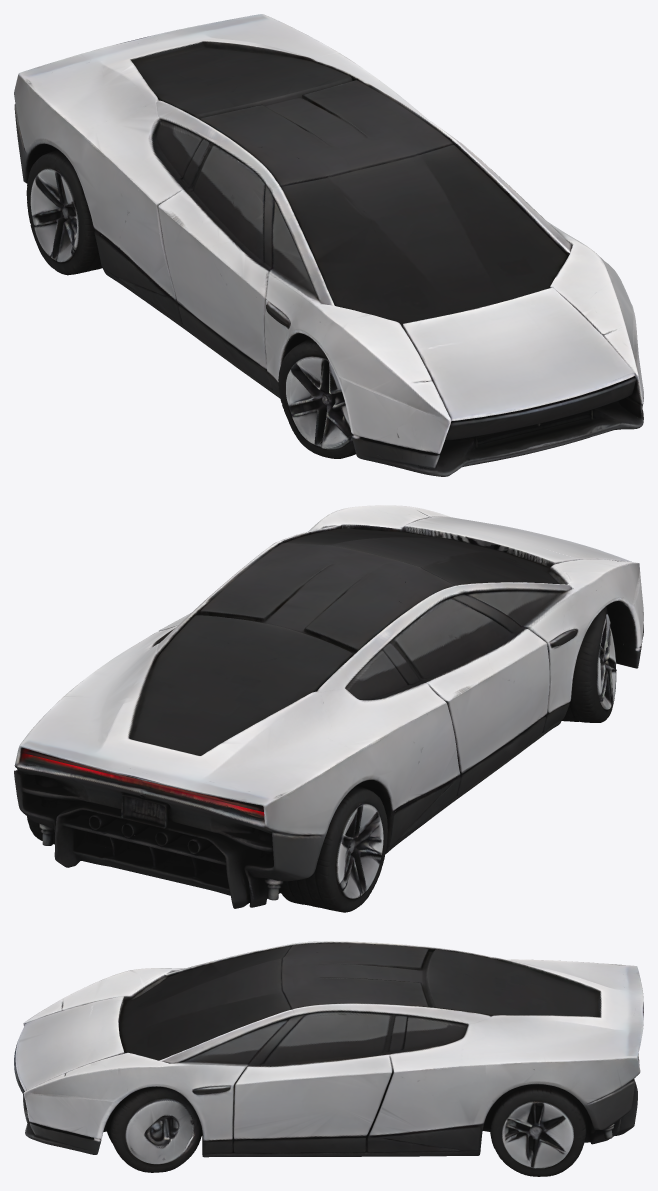
File: car.glb
3 views of the same model, one above another, from view 1: azimuth 30°, elevation 25°; view 2: azimuth 150°, elevation 25°; view 3: azimuth 270°, elevation 25° (orthographic). The views are drawn at different scales.
Parts seen in each view (by area): view 1: model; view 2: model; view 3: model.
Part boxes in pixels (x1,y1,x2,y2): model: [14, 14, 643, 476]; model: [14, 505, 643, 912]; model: [14, 941, 643, 1176].
Size of the model in its own units: 0.825 by 0.5011 by 1.9.
Materials: 1 (1 with a texture image).
